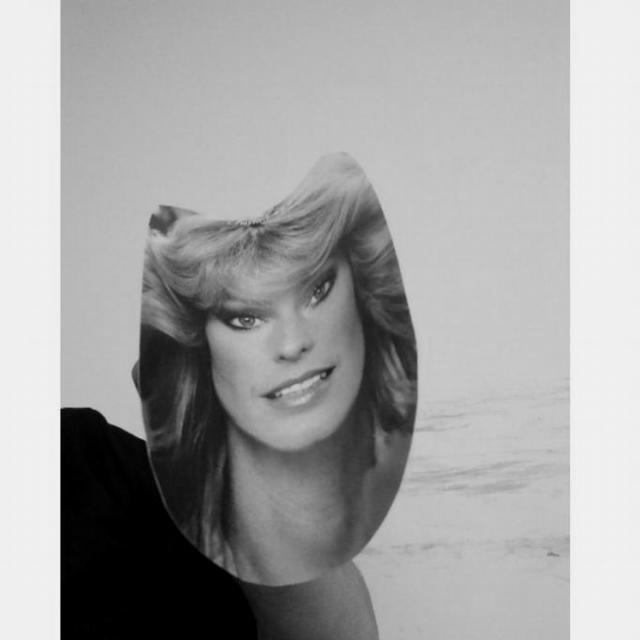fake: (131, 147, 417, 588)
